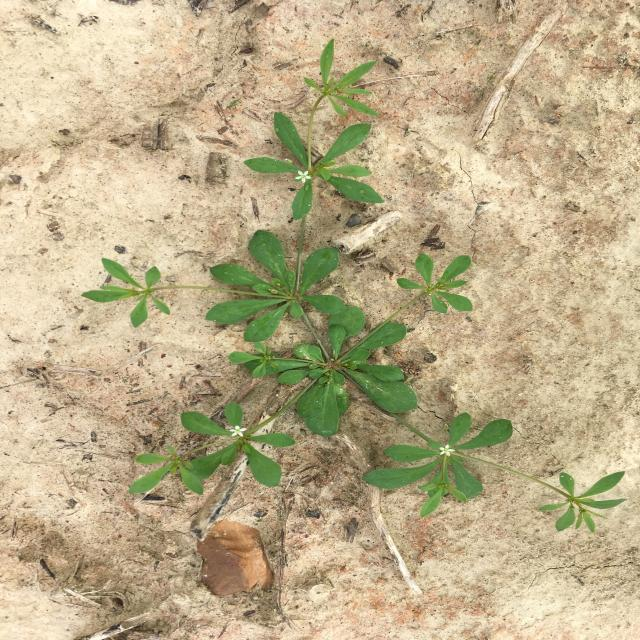Carpetweed: (81, 38, 628, 532)
